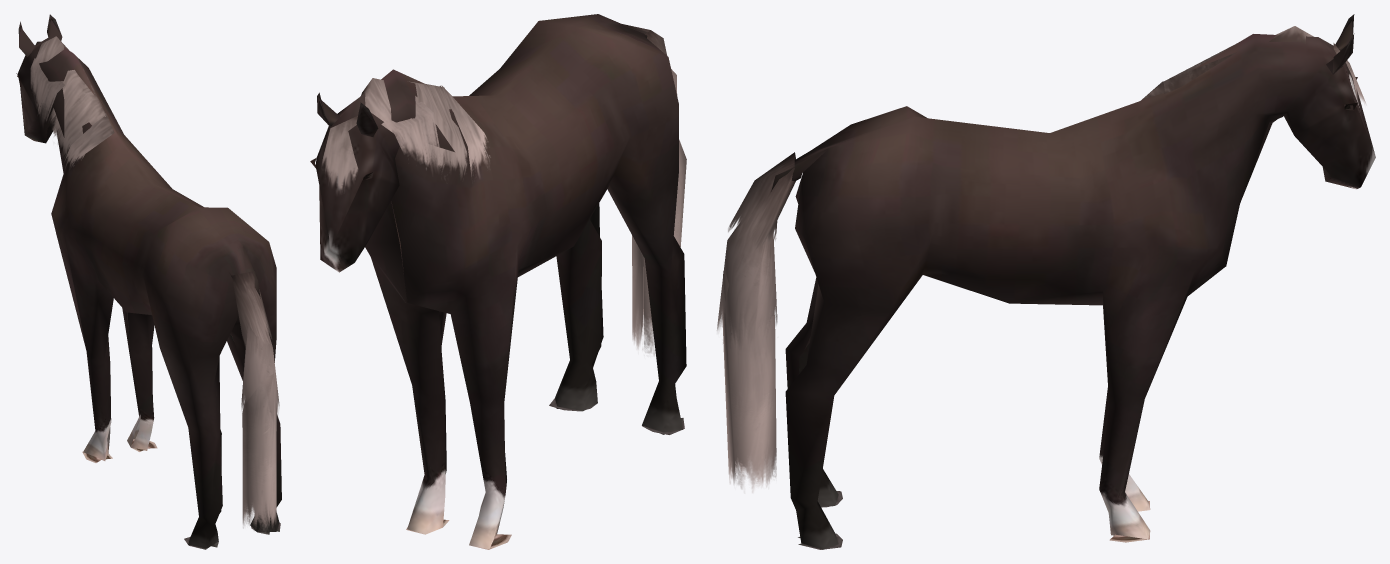
The model's file is horse_lo.glb.
3 renders of one model, left to right at view 1: azimuth 30°, elevation 25°; view 2: azimuth 150°, elevation 25°; view 3: azimuth 270°, elevation 25°, orthographic. The views are drawn at different scales.
Visible parts, largest first — view 1: horse_lo; view 2: horse_lo; view 3: horse_lo.
Part boxes in pixels (x1,y1,x2,y2): horse_lo: [16, 14, 281, 549]; horse_lo: [310, 14, 686, 549]; horse_lo: [717, 14, 1375, 549].
Size of the model in its own units: 0.6528 by 2.1 by 2.53.
Materials: 3 (2 with a texture image).
